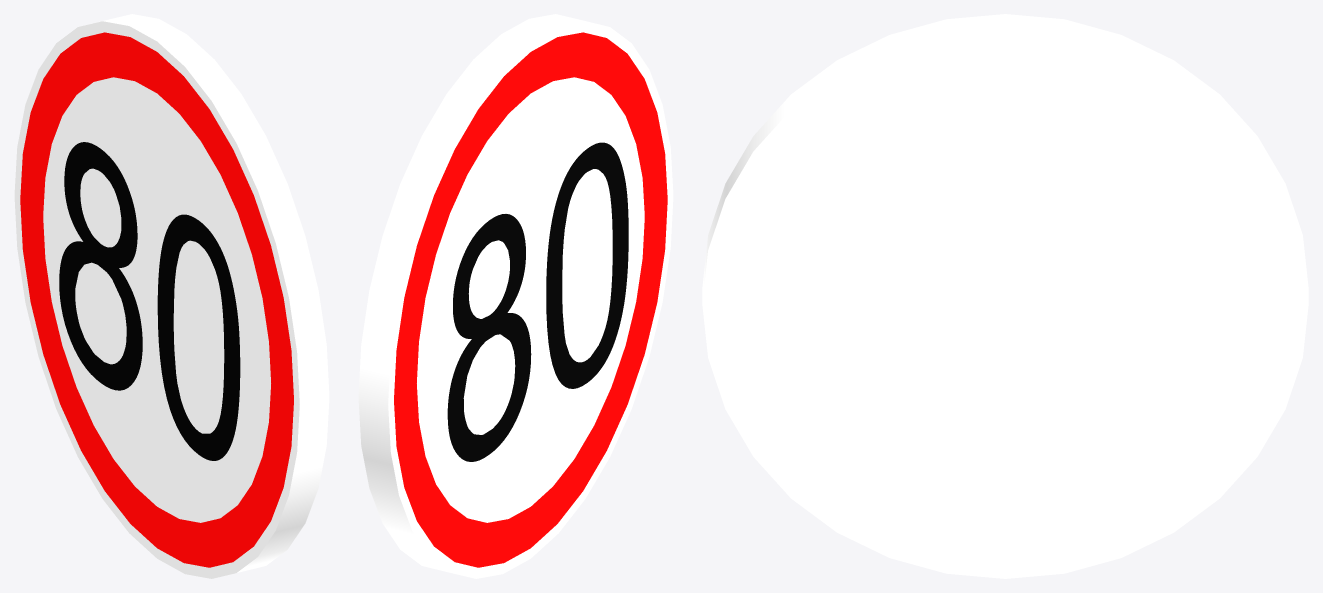
Rendered from Speed_Limit_80.glb.
The picture shows the model from 3 angles, left to right: view 1: azimuth 30°, elevation 25°; view 2: azimuth 150°, elevation 25°; view 3: azimuth 270°, elevation 25°; orthographic projection. The views are drawn at different scales.
Parts seen in each view (by area): view 1: Speed_Limit_80; view 2: Speed_Limit_80; view 3: Speed_Limit_80.
Boxes of the visible parts, x1=… form: Speed_Limit_80: x1=14, y1=14, x2=329, y2=578; Speed_Limit_80: x1=358, y1=14, x2=673, y2=578; Speed_Limit_80: x1=702, y1=14, x2=1308, y2=578.
Bounding box in the file's own units: 0.075 × 1 × 1.
